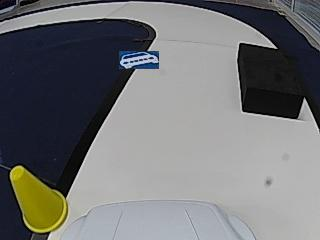block: (240, 42, 304, 119)
cone: (9, 164, 68, 231)
